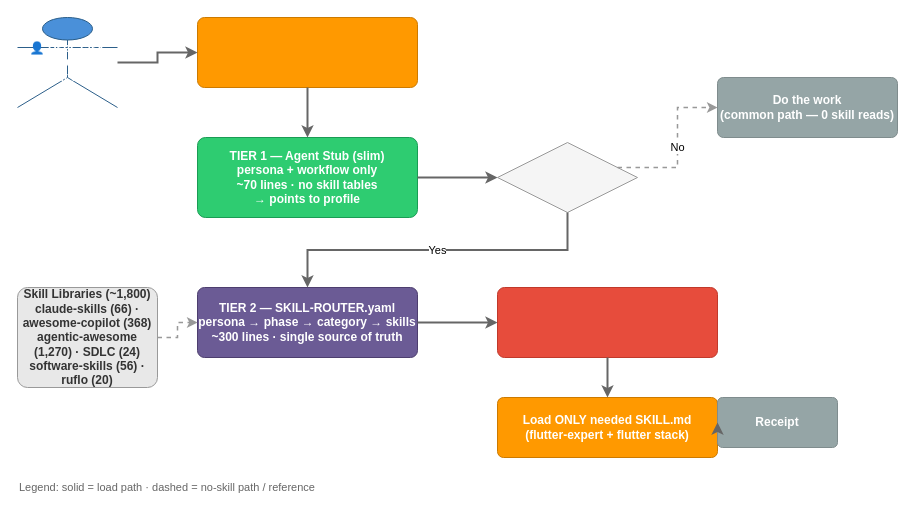
The diagram is 915 pixels wide and 515 high, and some of its shapes have lost their labels. The shapes that lost their labels are listed below. From the top down, each one's box as (x1, y1, x2, y2) in pixels, then its label:
(196, 16, 418, 88): TIER 0 — ROUTING-TABLE.yaml pattern → persona + cost tier ~1KB · loaded once
(496, 142, 638, 212): Skill needed?
(496, 286, 718, 358): TIER 3 — Per-agent profile profiles/bmad-engineer.yaml ONLY this agent's skills
